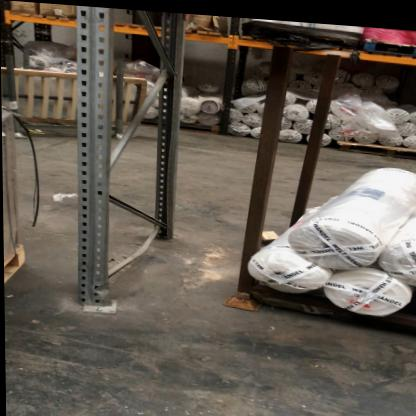vertical_damage: (69, 271, 126, 318)
